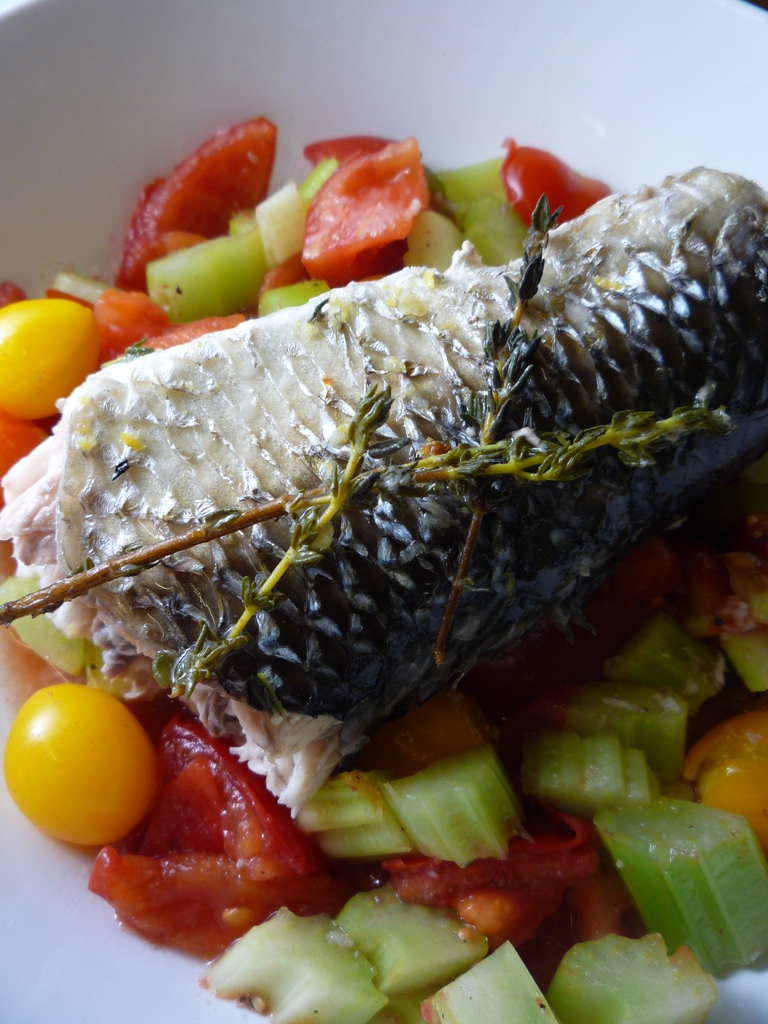Tomato: (82, 711, 332, 959), (386, 805, 596, 950), (128, 113, 276, 280), (300, 131, 435, 284), (505, 131, 610, 232), (92, 287, 250, 350), (300, 133, 388, 168), (0, 404, 44, 471)
